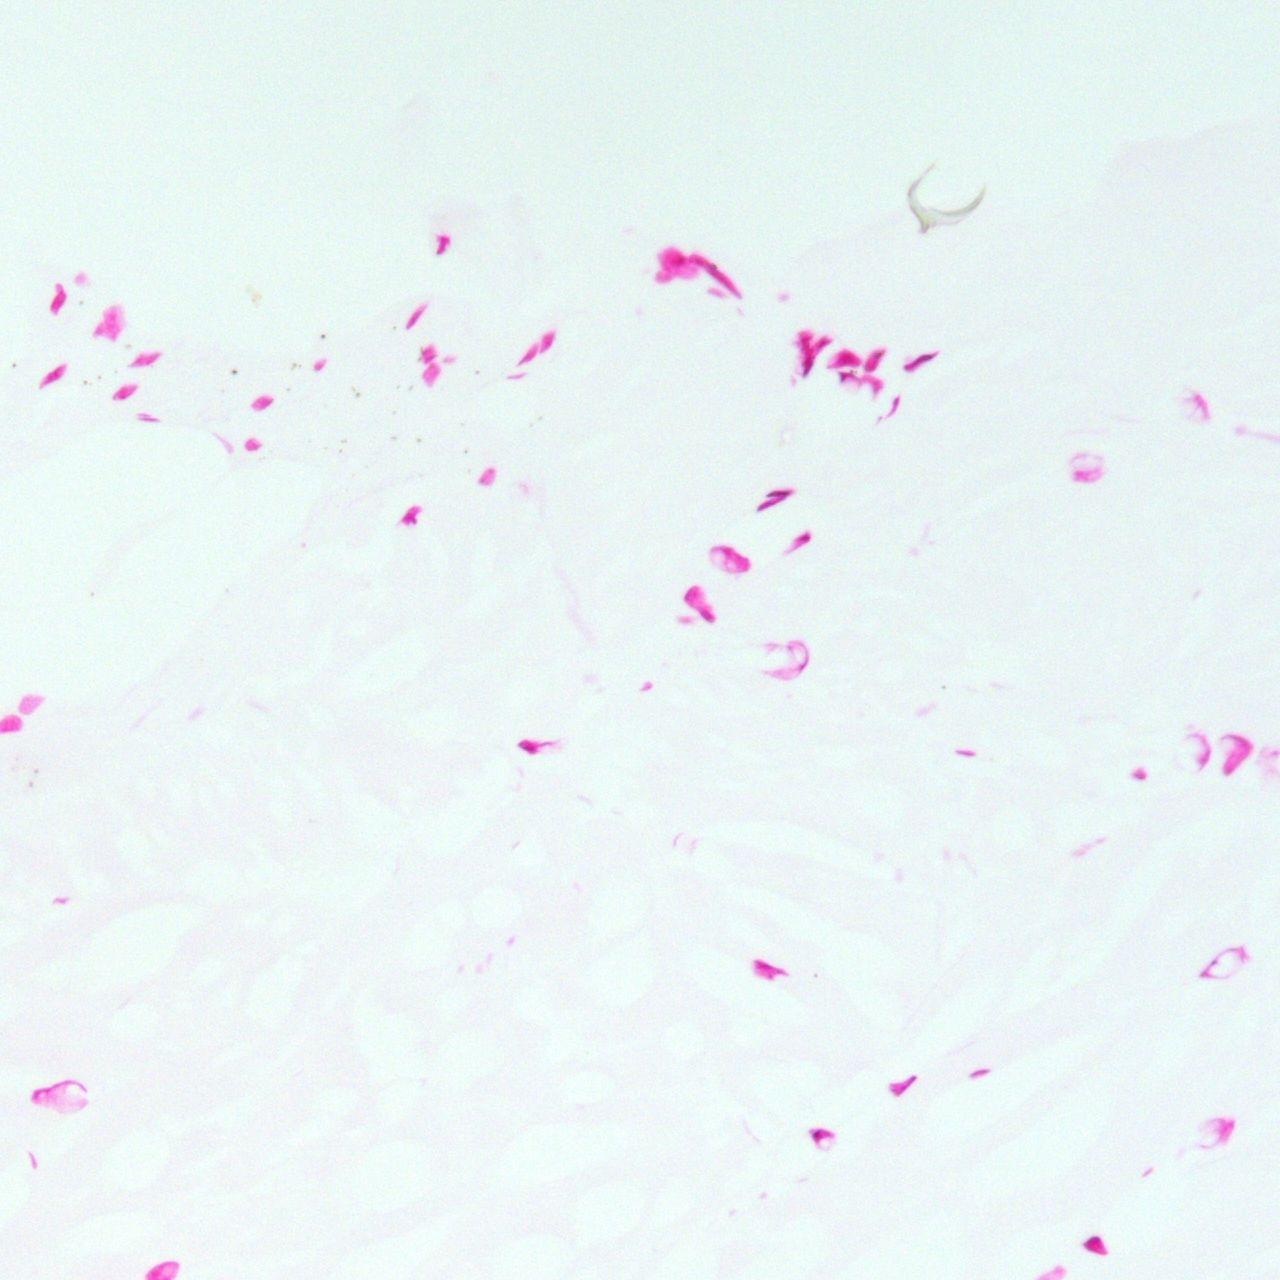dust: (320, 333, 326, 339), (231, 369, 238, 374), (390, 435, 397, 440), (82, 379, 87, 384), (355, 392, 360, 397), (416, 437, 421, 442), (285, 387, 290, 392), (475, 370, 481, 374), (11, 363, 16, 366), (98, 375, 102, 379), (464, 449, 467, 452)
nucleus-FG: (787, 325, 835, 381), (681, 580, 728, 625), (747, 955, 794, 990), (753, 481, 795, 515), (900, 343, 941, 376), (885, 1065, 919, 1099), (34, 361, 70, 392), (1082, 1230, 1114, 1262), (43, 280, 70, 314), (402, 299, 429, 331), (860, 343, 887, 375), (782, 527, 815, 553), (110, 377, 139, 406), (515, 733, 544, 760), (399, 501, 425, 529), (248, 388, 275, 415), (808, 1126, 835, 1142)
